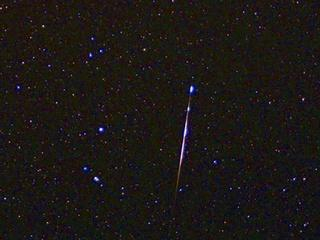meteorite: (168, 72, 200, 188)
